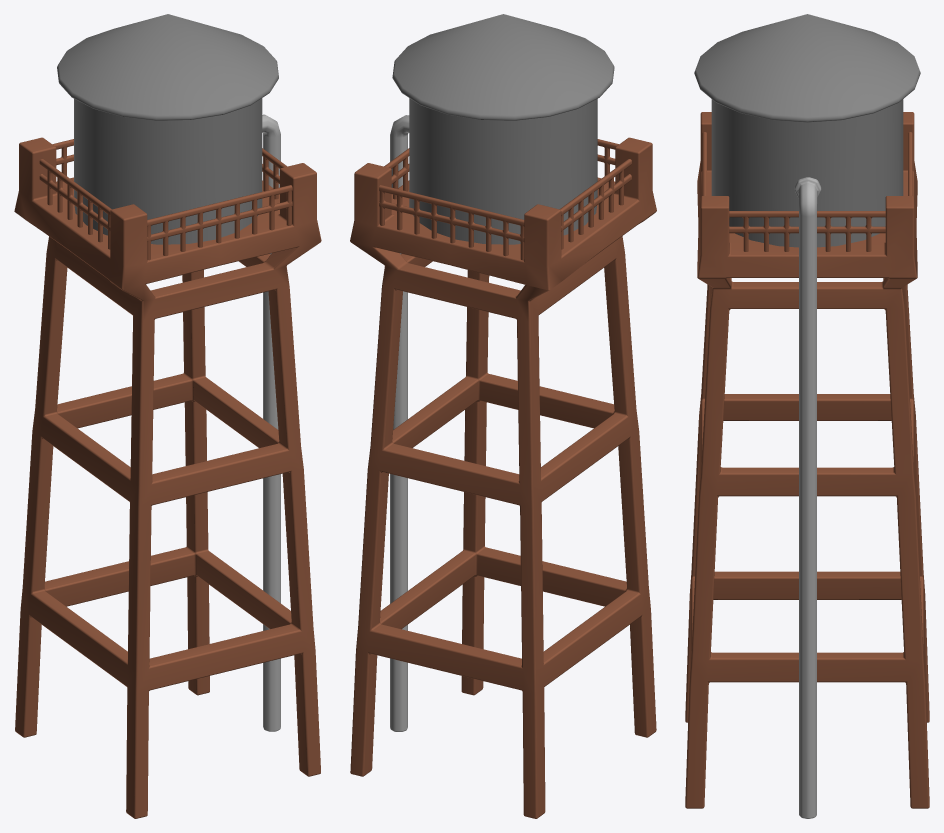
File: WaterTower.glb
3 renders of one model, left to right at view 1: azimuth 30°, elevation 25°; view 2: azimuth 150°, elevation 25°; view 3: azimuth 270°, elevation 25°, orthographic.
Parts seen in each view (by area): view 1: WaterTower; view 2: WaterTower; view 3: WaterTower.
Part boxes in pixels (x1,y1,x2,y2): WaterTower: (14,14,321,818); WaterTower: (350,14,656,818); WaterTower: (685,14,929,818).
Size of the model in its own units: 2.53 by 8.43 by 2.49.
